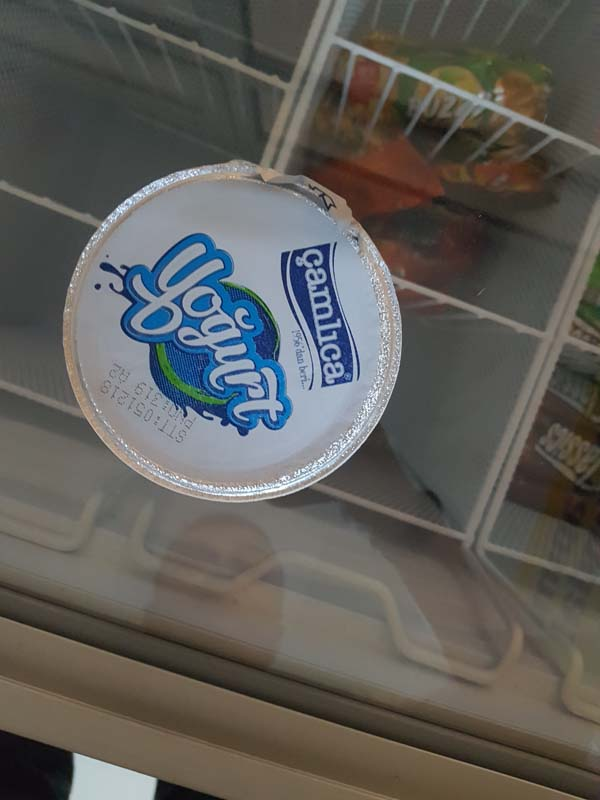camlicayogurt: (57, 156, 400, 504)
